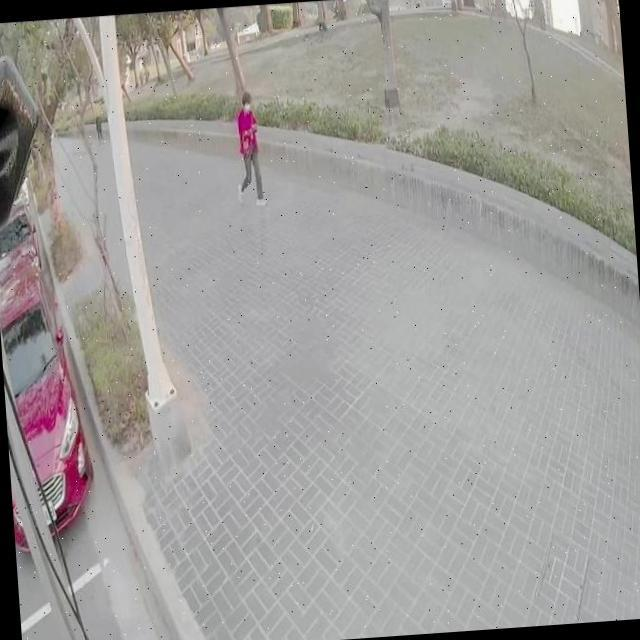person: (234, 93, 264, 202), (95, 114, 103, 144)
